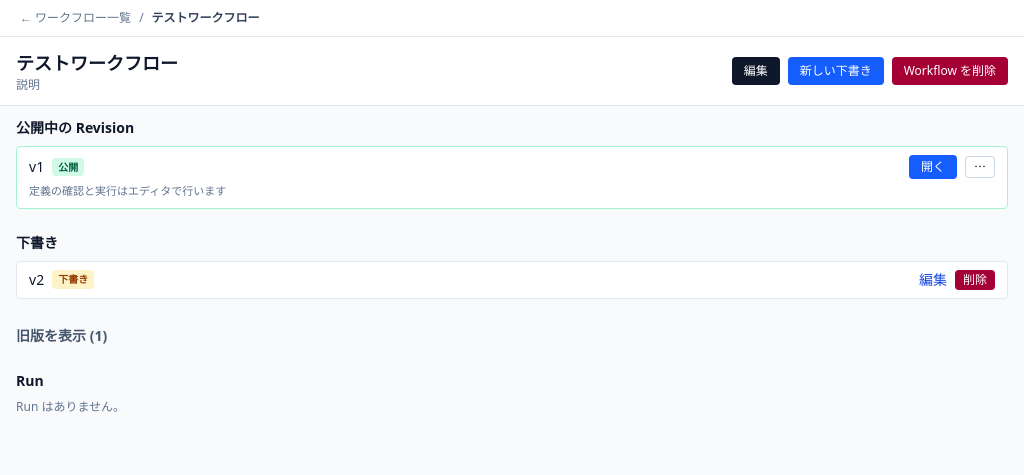
it: WorkflowDetailPage old revisions › collapses superseded revisions until toggled
Expected: the heading "テストワークフロー" is shown, 16,49 -> 178,77
Expected: the number of buttons "削除" is 1, 955,270 -> 995,290
Click the button with test id "old-revisions-toggle" at x=62, y=336, box 16,326 -> 107,346
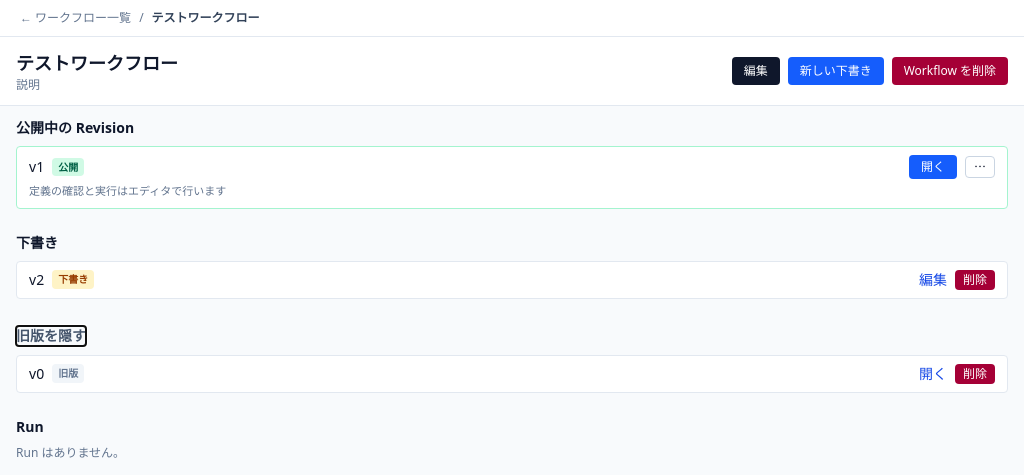
Expected: the number of buttons "削除" is 2, 955,270 -> 995,290; 955,364 -> 995,384
